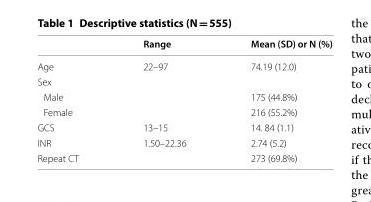table: (36, 36, 331, 163)
table column: (217, 36, 331, 163), (110, 36, 217, 163), (36, 36, 110, 163)
table column header: (36, 36, 331, 54)
table projected row header: (36, 73, 331, 88)
table row: (36, 54, 331, 73), (36, 36, 331, 54), (36, 88, 331, 104), (36, 134, 331, 150), (36, 73, 331, 88), (36, 104, 331, 119), (36, 119, 331, 134), (36, 150, 331, 163)
